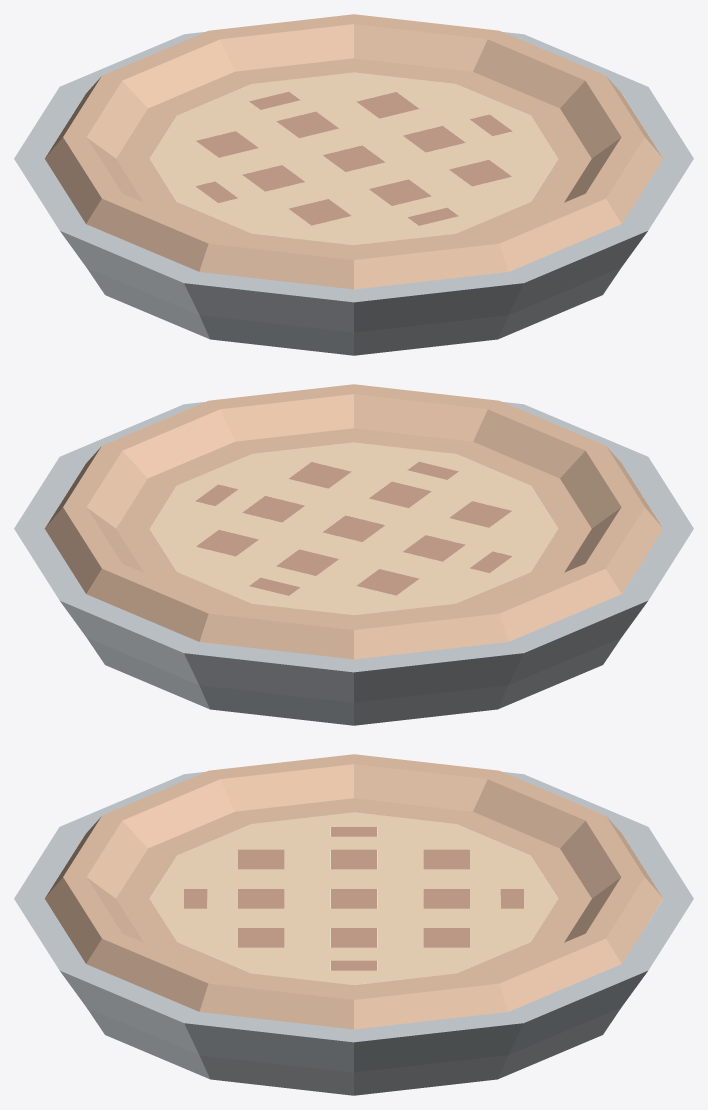
Rendered from pie.glb.
The picture shows the model from 3 angles, top to bottom: view 1: azimuth 30°, elevation 25°; view 2: azimuth 150°, elevation 25°; view 3: azimuth 270°, elevation 25°; orthographic projection.
Visible parts, largest first — view 1: pie; view 2: pie; view 3: pie.
Boxes of the visible parts, left/top/right/bottom form: pie: left=14, top=14, right=693, bottom=355; pie: left=14, top=384, right=693, bottom=725; pie: left=14, top=754, right=693, bottom=1095.
Size of the model in its own units: 0.9504 by 0.1498 by 0.9504.
